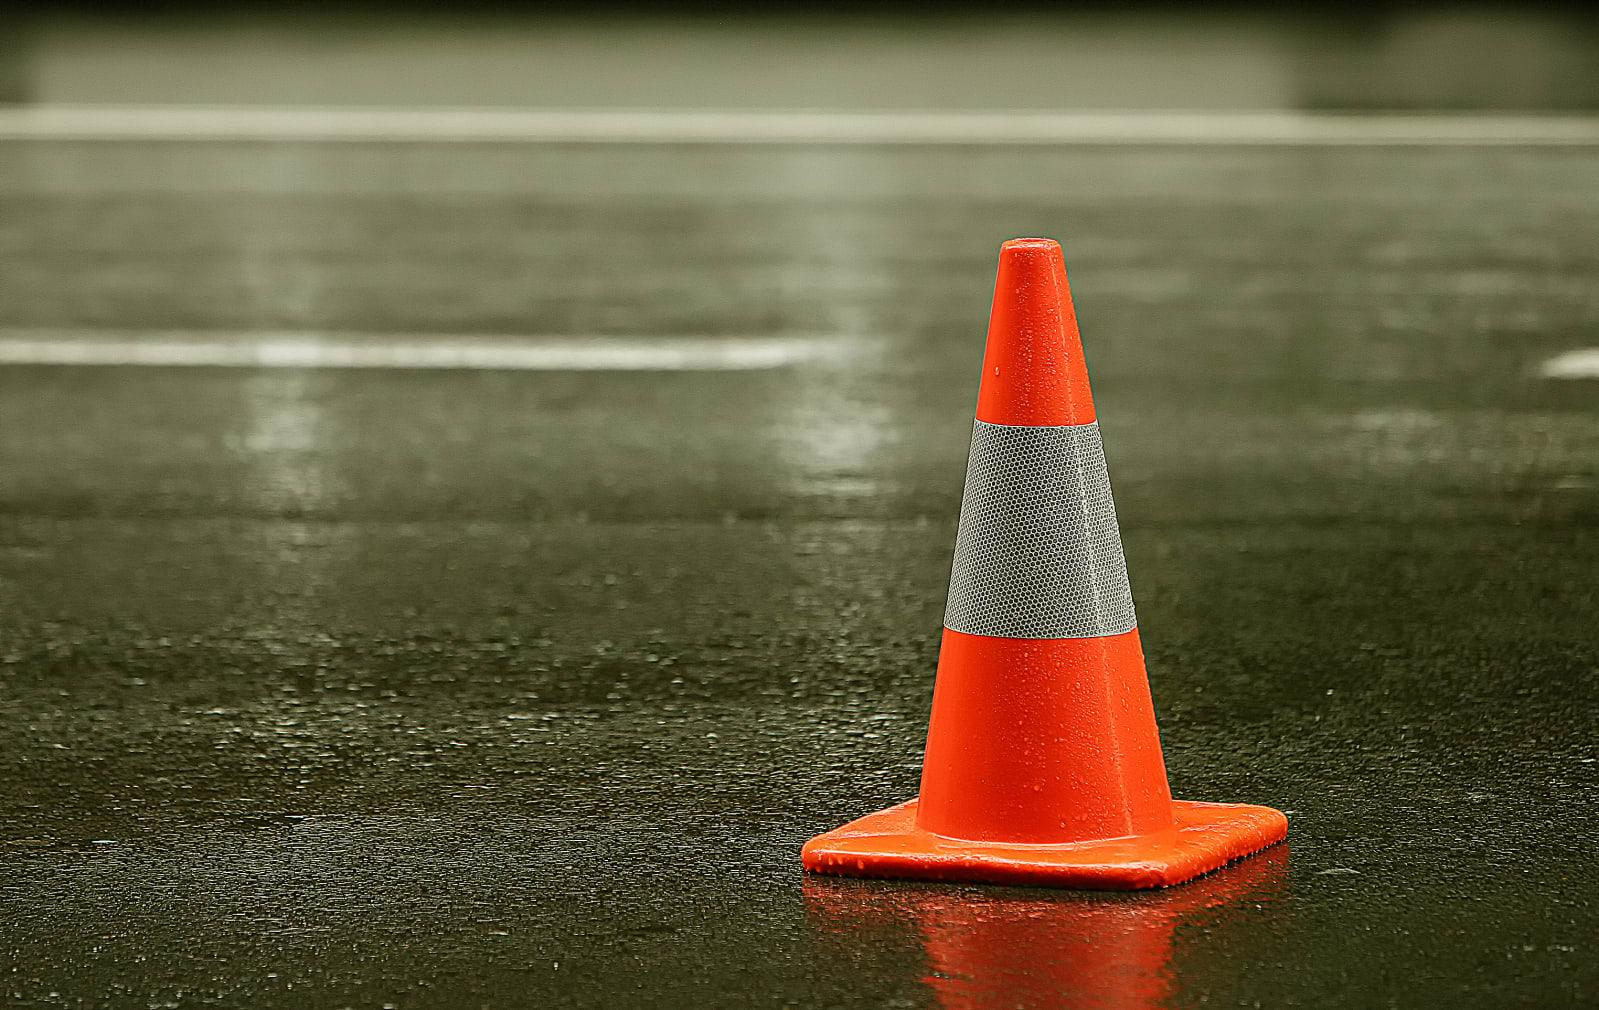traffic cone: (801, 237, 1291, 890)
